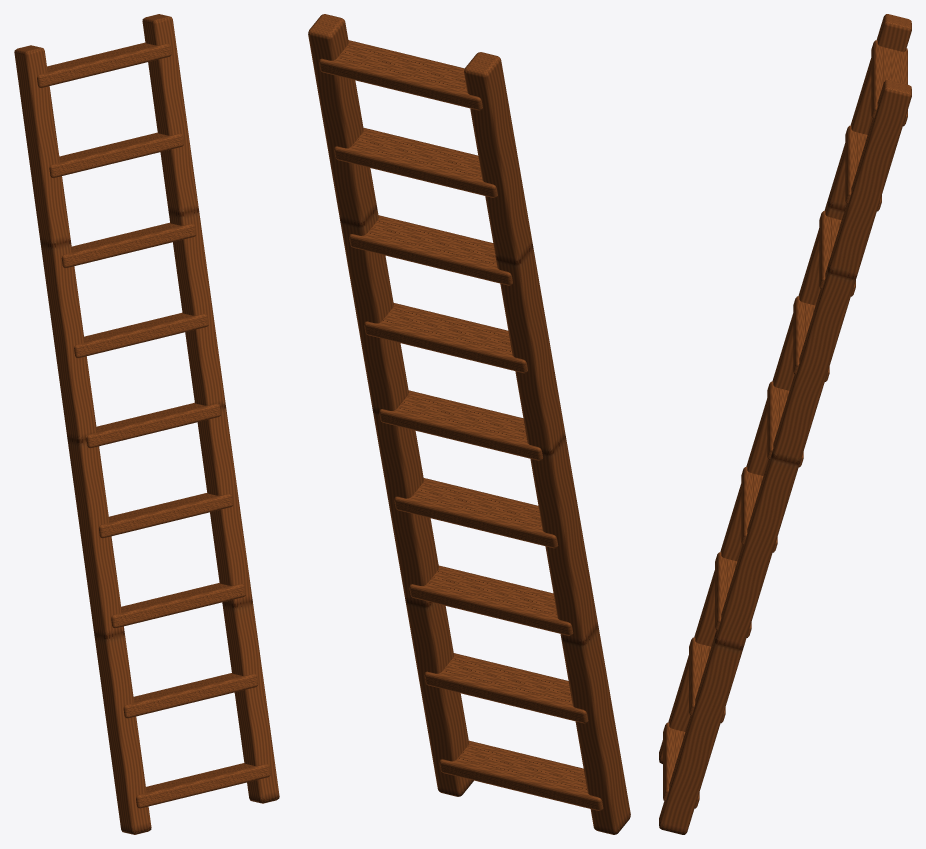
Rendered from witch-cottage-and-apothecary-loft-ladder-5475f56d__32439.glb.
The picture shows the model from 3 angles, left to right: view 1: azimuth 30°, elevation 25°; view 2: azimuth 150°, elevation 25°; view 3: azimuth 270°, elevation 25°; orthographic projection. The views are drawn at different scales.
Parts seen in each view (by area): view 1: loft-ladder; view 2: loft-ladder; view 3: loft-ladder.
Boxes of the visible parts, bbox=[...] form: loft-ladder: bbox=[14, 14, 279, 834]; loft-ladder: bbox=[308, 14, 630, 834]; loft-ladder: bbox=[659, 14, 911, 834].
Bounding box in the file's own units: 0.555 × 2.54 × 0.7792.
Materials: 1 (1 with a texture image).
